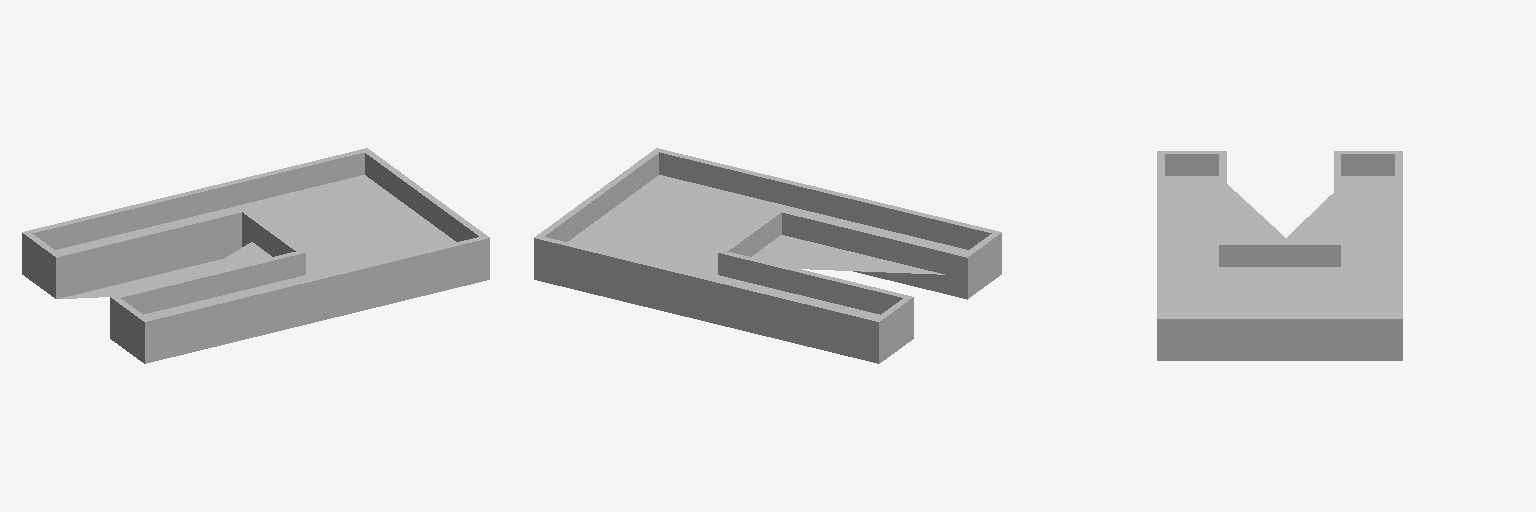
Rendered from lvl15.obj.
3 renders of one model, left to right at view 1: azimuth 30°, elevation 25°; view 2: azimuth 150°, elevation 25°; view 3: azimuth 270°, elevation 25°, orthographic.
Parts seen in each view (by area): view 1: Cube; view 2: Cube; view 3: Cube.
Part boxes in pixels (bbox=[...]): Cube: bbox=[22, 148, 489, 363]; Cube: bbox=[534, 148, 1001, 363]; Cube: bbox=[1157, 151, 1402, 360].
Bounding box in the file's own units: 2.6 × 0.3 × 1.6.